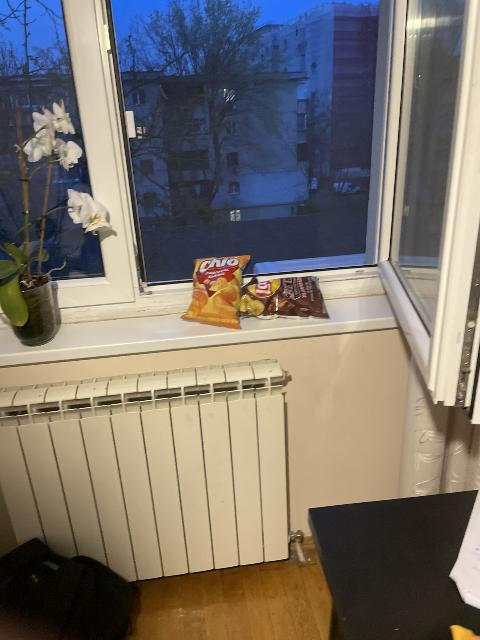Chio Cascaval 125g: (180, 256, 252, 330)
Lays Beef Grilled Ribs 125g: (239, 275, 328, 321)
